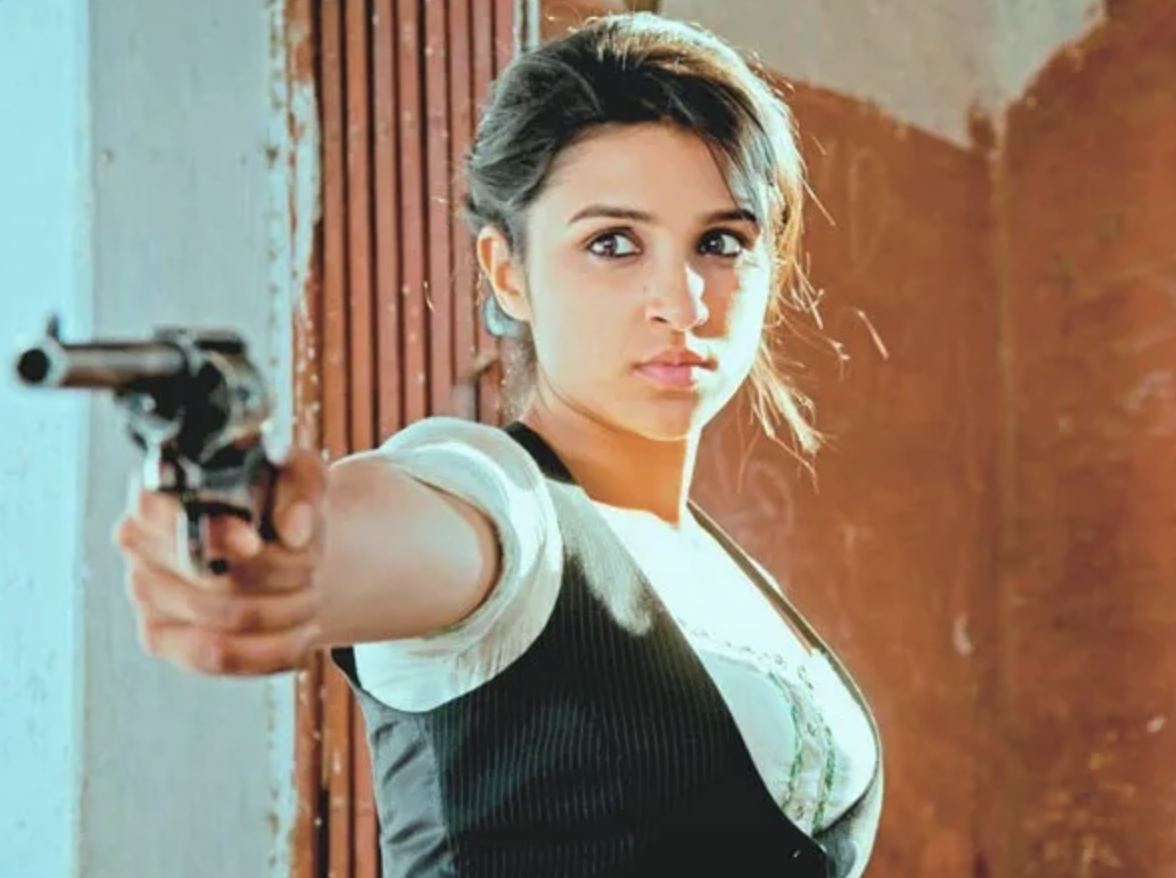gun_021: (7, 304, 313, 609)
